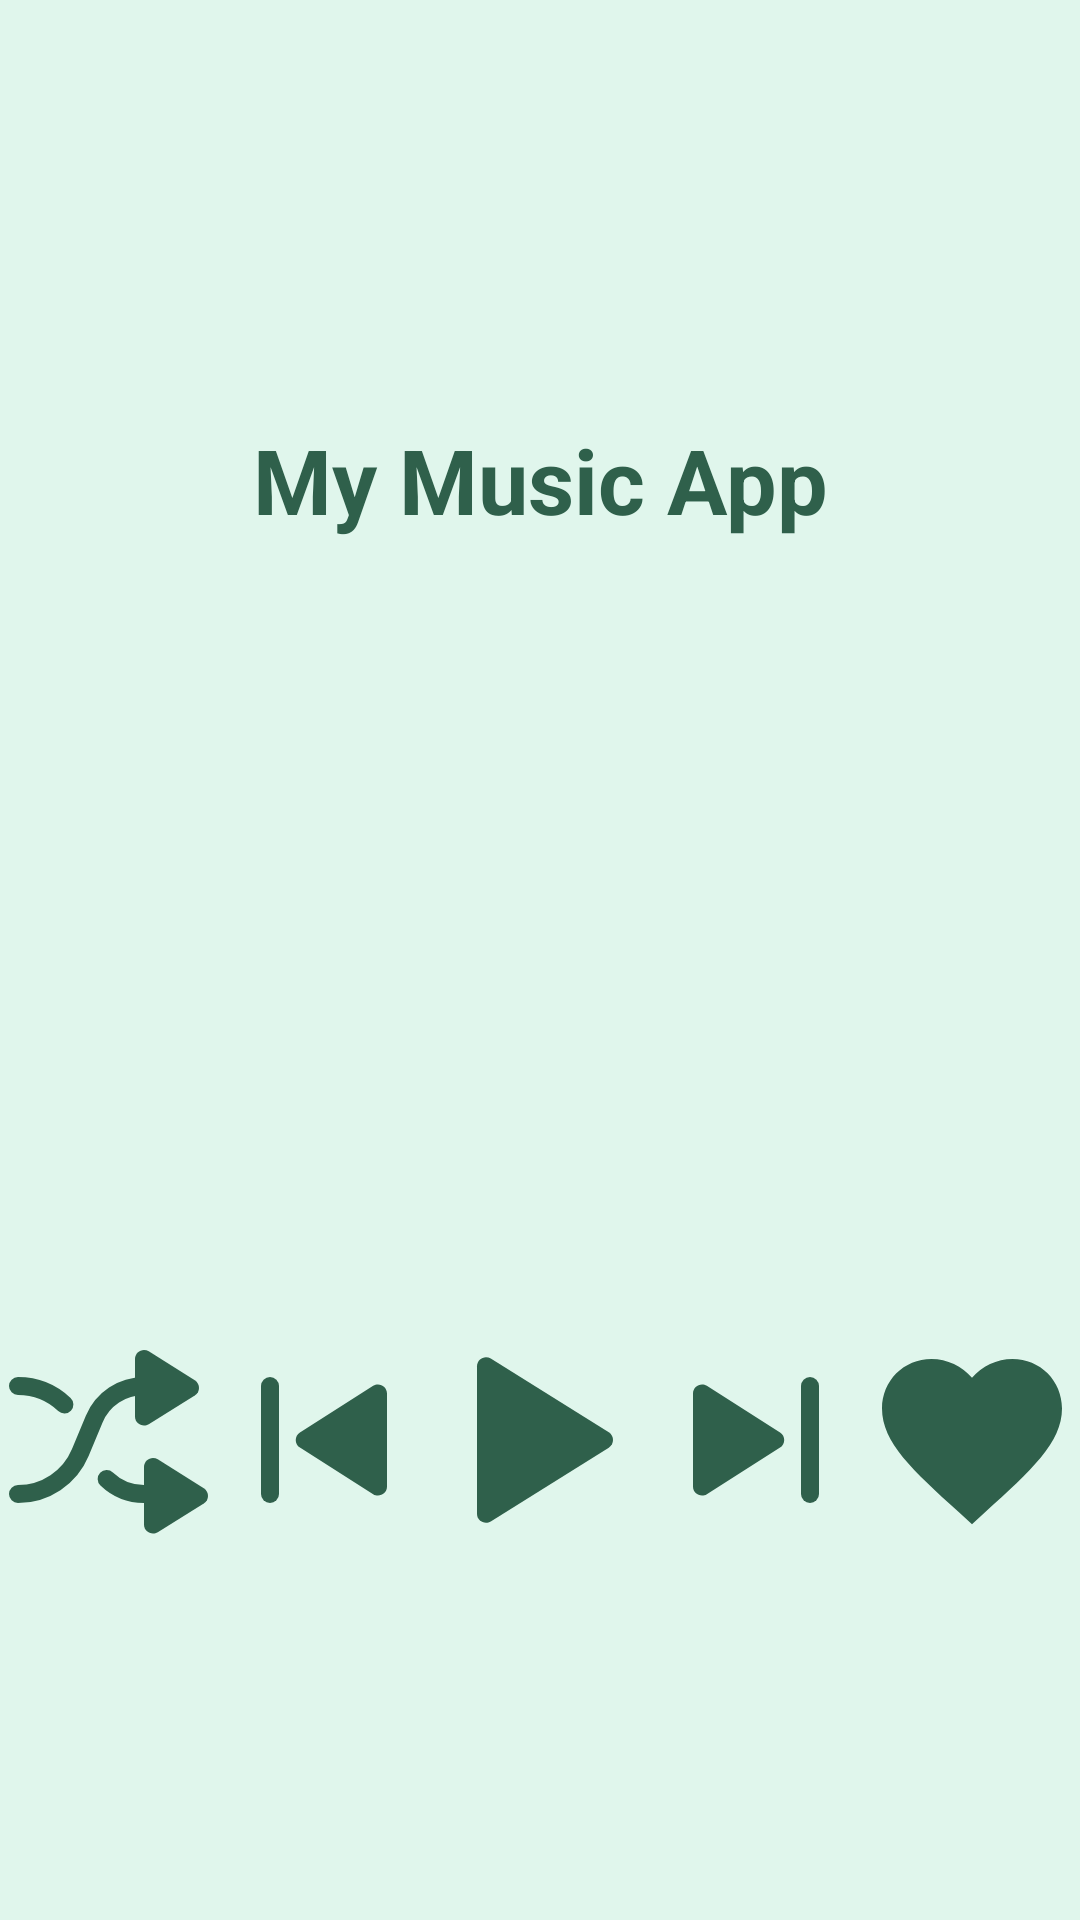

Icon click points for this 1080*1920 phone screenshot, format point (x, y):
favourite: point (972, 1441)
play: point (545, 1440)
shuffle: point (108, 1442)
skip back: point (324, 1440)
skip fwd: point (756, 1440)
